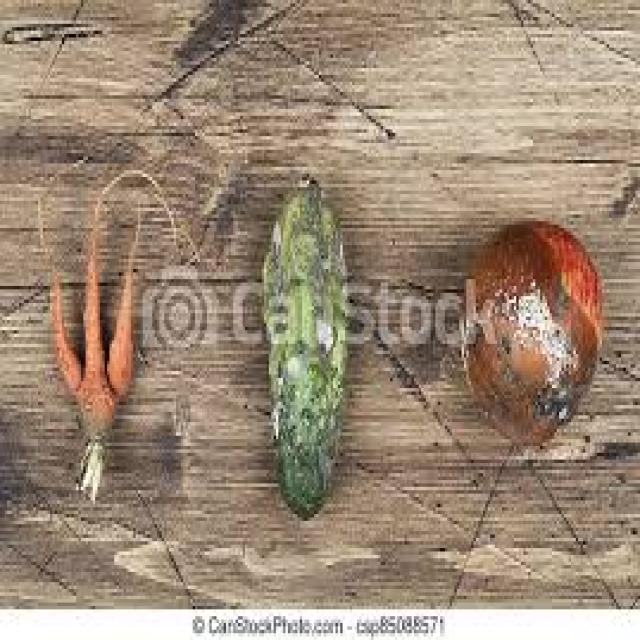Stale_Carrot: (40, 185, 205, 534)
